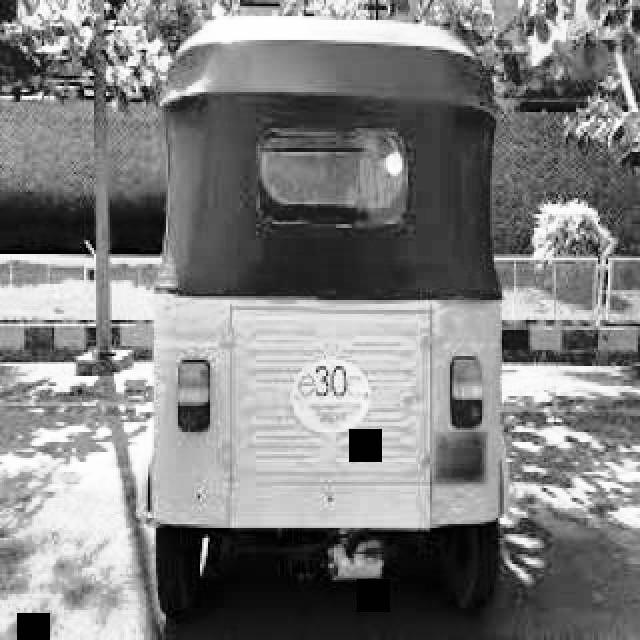Auto-Rickshaw: (134, 14, 524, 626)
